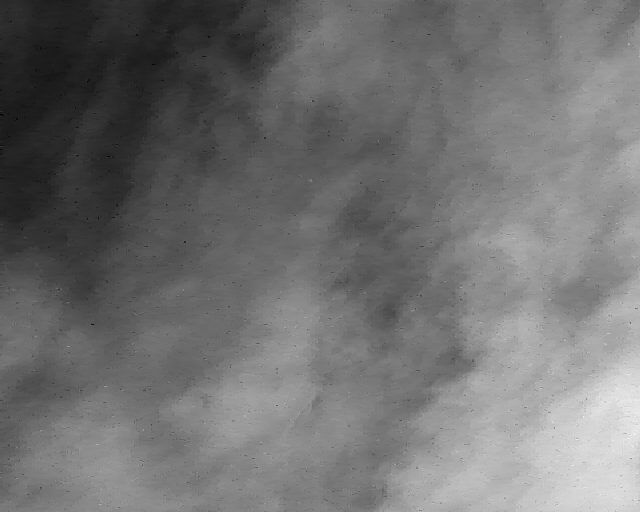Target: (309, 179, 315, 184)
